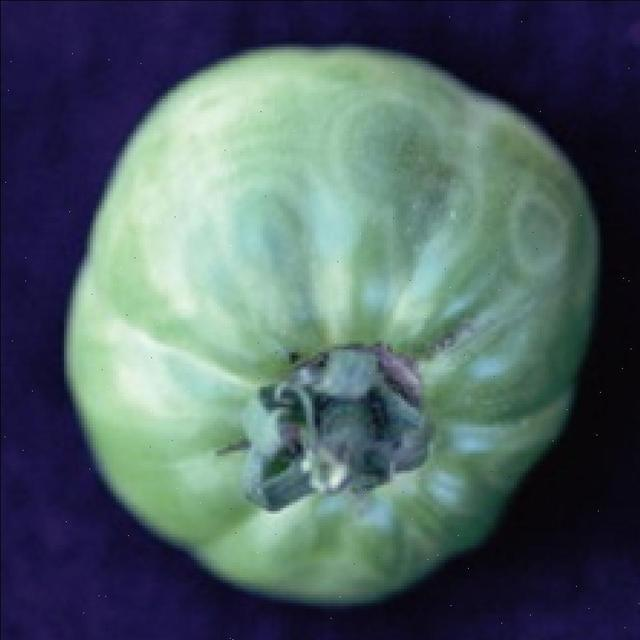Spotted wilt Virus Fruit: (40, 25, 398, 406)
